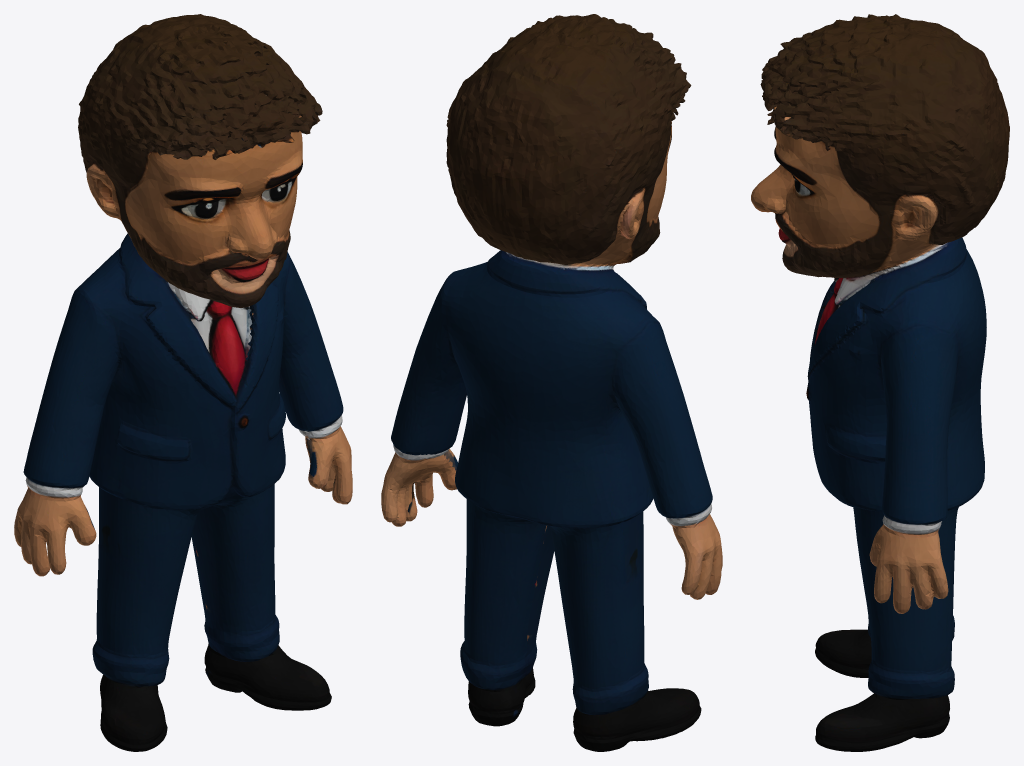
The model's file is raw_textured.glb.
3 renders of one model, left to right at view 1: azimuth 30°, elevation 25°; view 2: azimuth 150°, elevation 25°; view 3: azimuth 270°, elevation 25°, orthographic.
Parts seen in each view (by area): view 1: textured_mesh.obj; view 2: textured_mesh.obj; view 3: textured_mesh.obj.
Part boxes in pixels (left/top/right/bottom): textured_mesh.obj: left=14, top=14, right=352, bottom=751; textured_mesh.obj: left=381, top=14, right=722, bottom=751; textured_mesh.obj: left=751, top=14, right=1009, bottom=751.
Size of the model in its own units: 0.9805 by 1.99 by 0.6876.
Materials: 1 (1 with a texture image).
